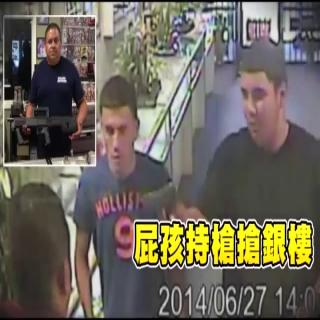gun: (3, 98, 79, 156)
